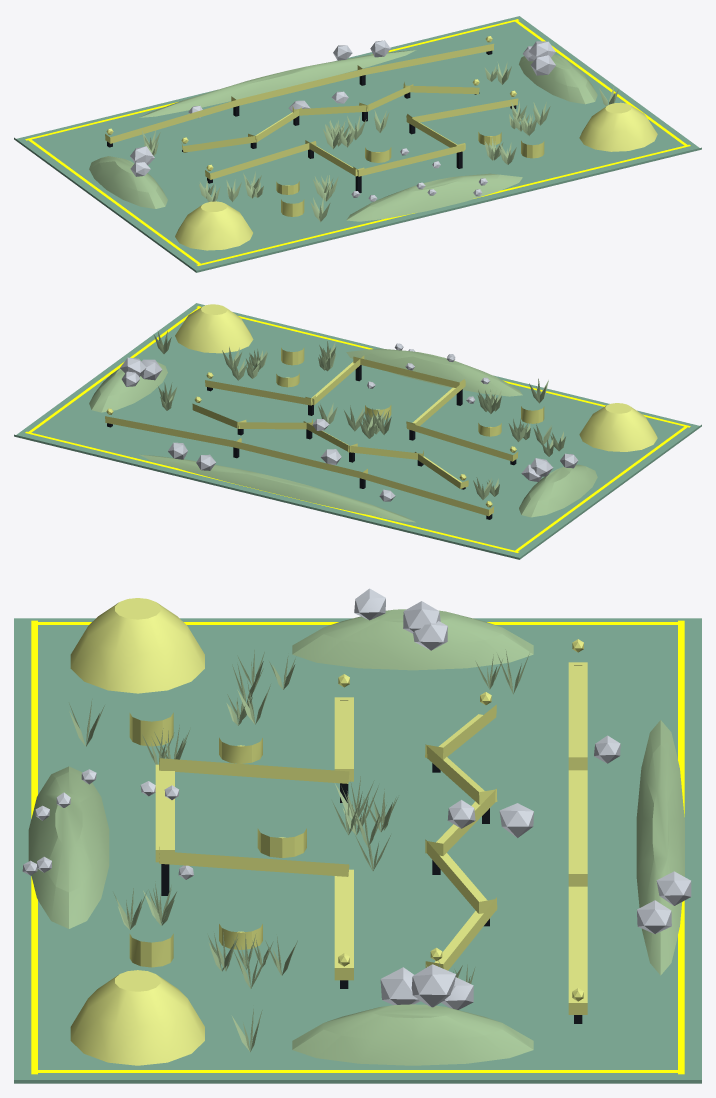
3 renders of one model, top to bottom at view 1: azimuth 30°, elevation 25°; view 2: azimuth 150°, elevation 25°; view 3: azimuth 270°, elevation 25°, orthographic. The views are drawn at different scales.
Parts seen in each view (by area): view 1: Safety_Pad, Terrain, Balance_Beam, Ball_Mounds, Grass_Tufts, Court_Line, Foliage, Ball_Pods, Balance_Beam_Posts; view 2: Safety_Pad, Terrain, Balance_Beam, Ball_Mounds, Grass_Tufts, Foliage, Court_Line, Ball_Pods, Balance_Beam_Posts; view 3: Safety_Pad, Terrain, Balance_Beam, Ball_Mounds, Foliage, Court_Line, Grass_Tufts, Ball_Pods, Balance_Beam_Posts, Balance_Beam_Finials.
Boxes of the visible parts, x1,y1,x2,y2 form: Safety_Pad: (14,16,701,272); Terrain: (89,50,597,221); Balance_Beam: (105,43,518,179); Ball_Mounds: (175,102,657,250); Grass_Tufts: (142,62,618,221); Court_Line: (25,19,690,265); Foliage: (130,40,555,201); Ball_Pods: (276,132,544,216); Balance_Beam_Posts: (107,50,516,192); Safety_Pad: (14,303,701,559); Terrain: (89,348,597,522); Balance_Beam: (105,355,518,516); Ball_Mounds: (175,304,657,451); Grass_Tufts: (154,331,565,499); Foliage: (120,343,578,501); Court_Line: (25,306,690,552); Ball_Pods: (276,347,544,436); Balance_Beam_Posts: (107,365,516,519); Safety_Pad: (14,618,701,1083); Terrain: (28,609,684,1065); Balance_Beam: (155,662,587,1014); Ball_Mounds: (70,598,204,1065); Foliage: (22,588,691,1009); Court_Line: (31,620,684,1074); Grass_Tufts: (69,649,529,1051); Ball_Pods: (129,712,306,967); Balance_Beam_Posts: (161,665,582,1023); Balance_Beam_Finials: (338,639,583,1001).
Size of what is drawn, in the model's own units: 8 by 0.5616 by 5.
Materials: 7 (2 with a texture image).
